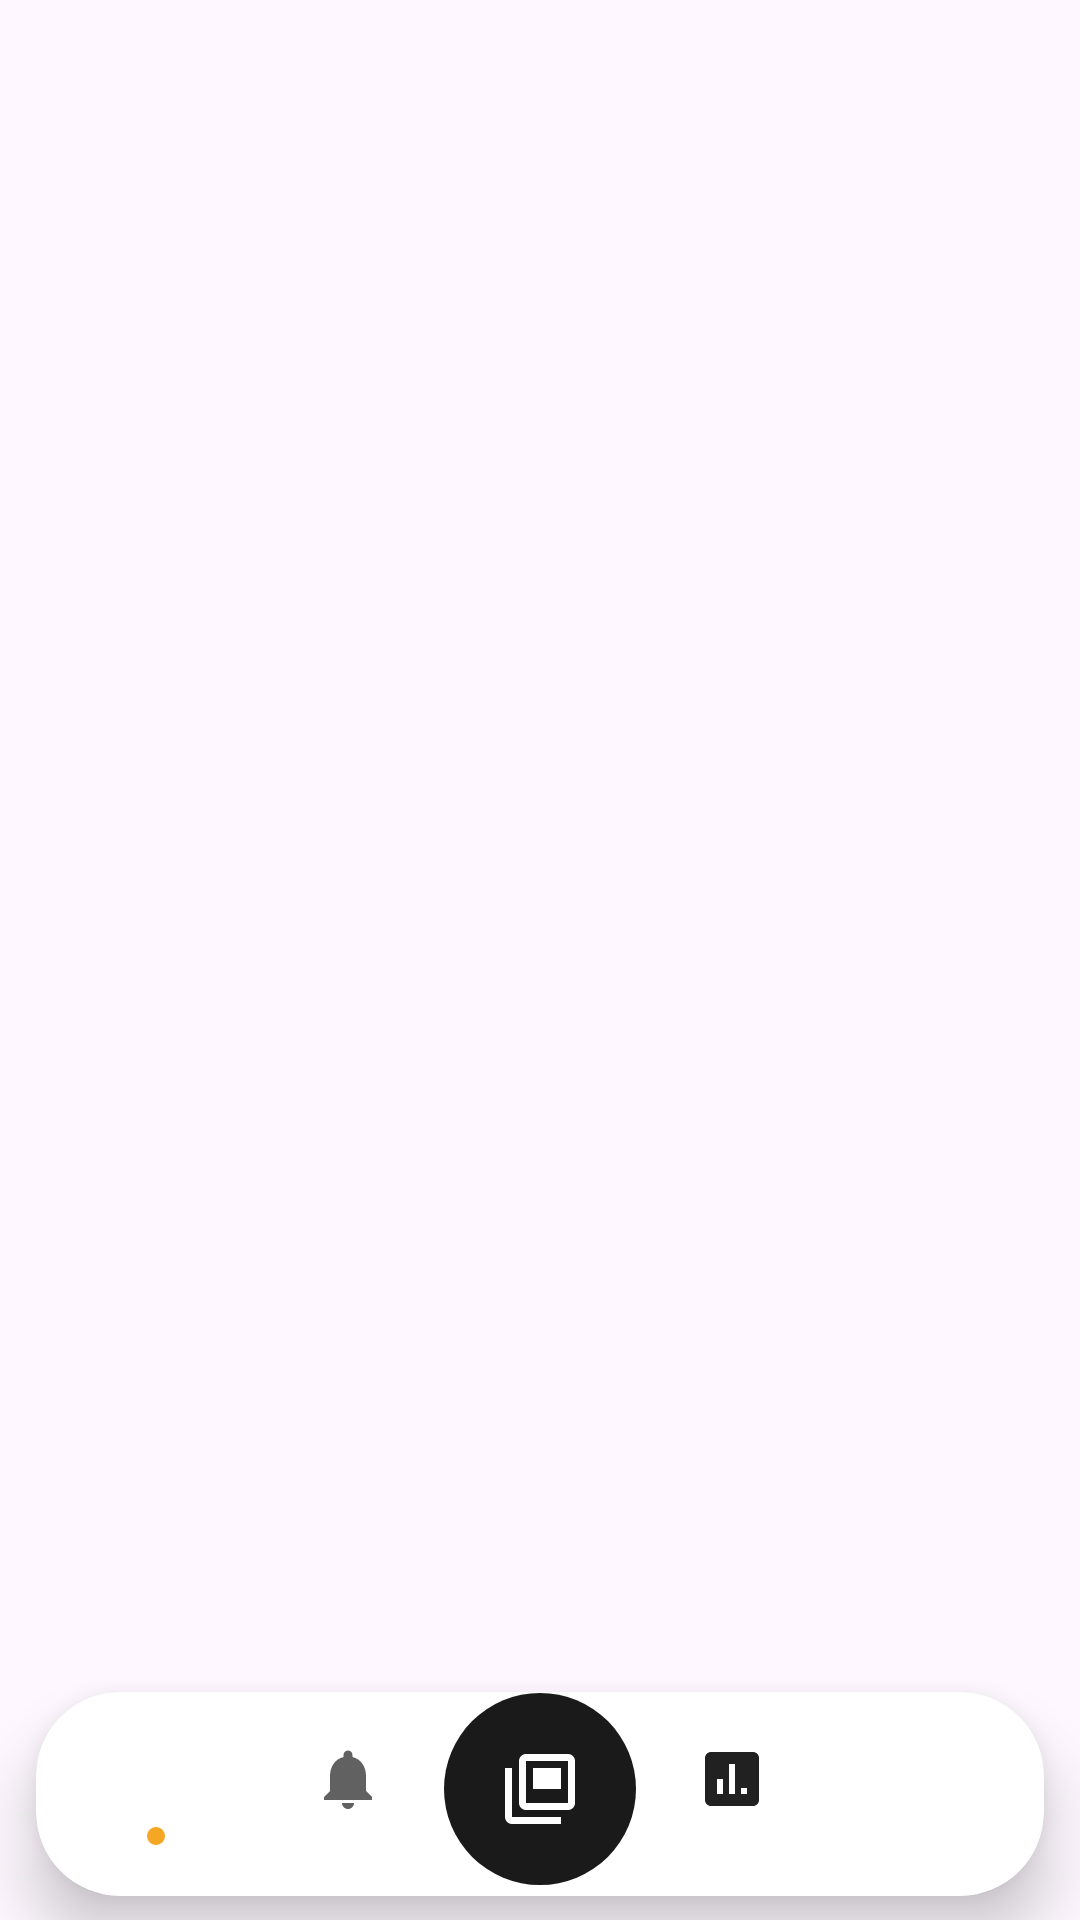

Where to tap for icons on this 1080px x 1920px app screen, as [x,y]:
Statistics: [732,1779]
